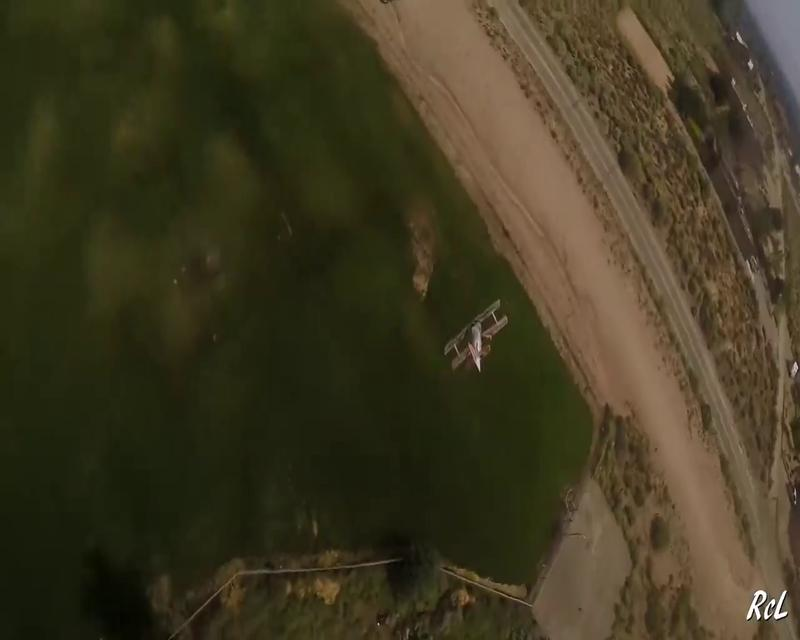UAV: (444, 298, 509, 373)
